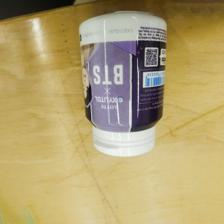Xylitol_BTS: (78, 10, 170, 156)
